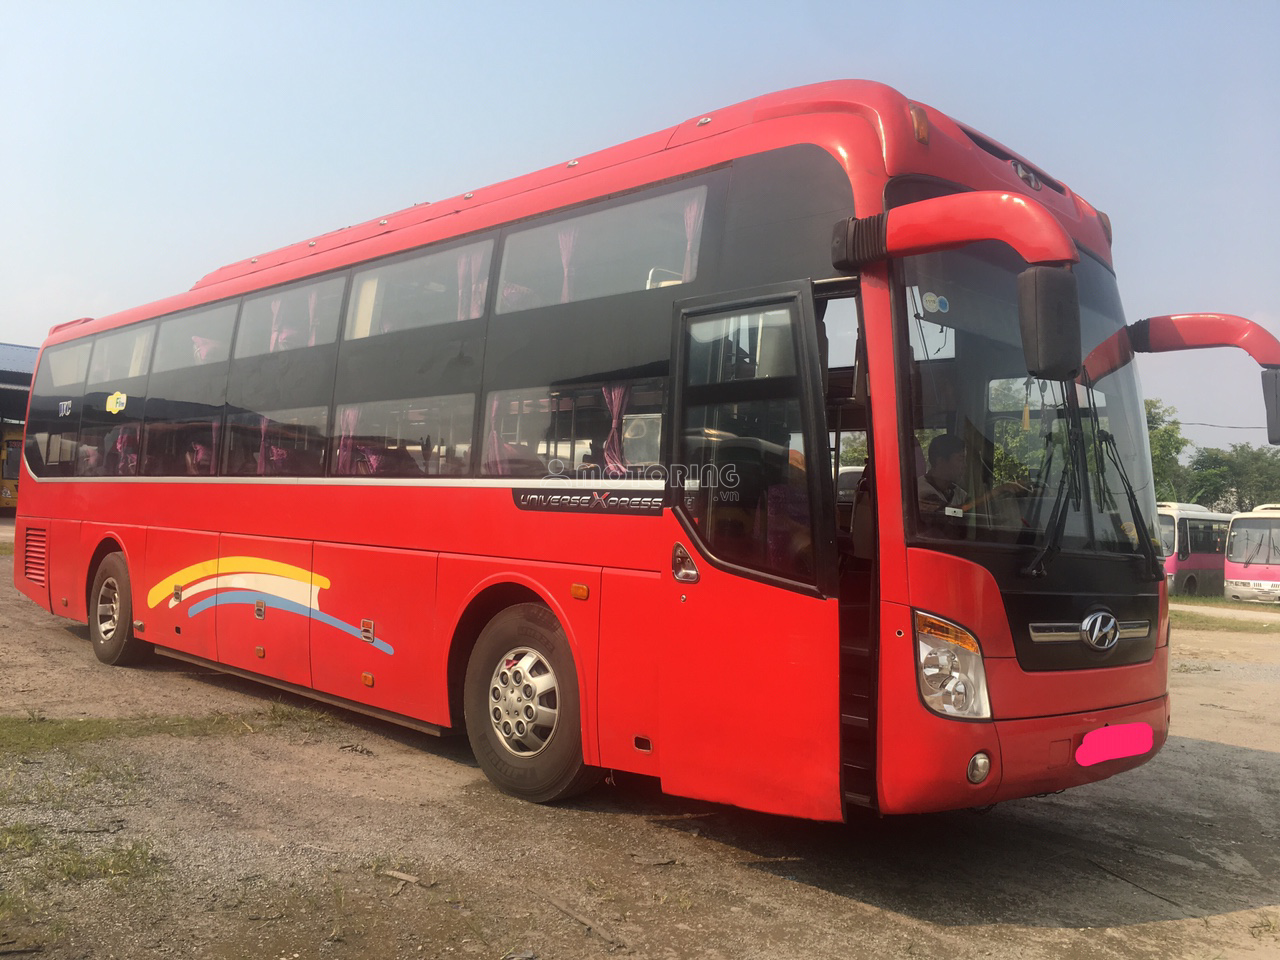bus: (14, 80, 1175, 830)
